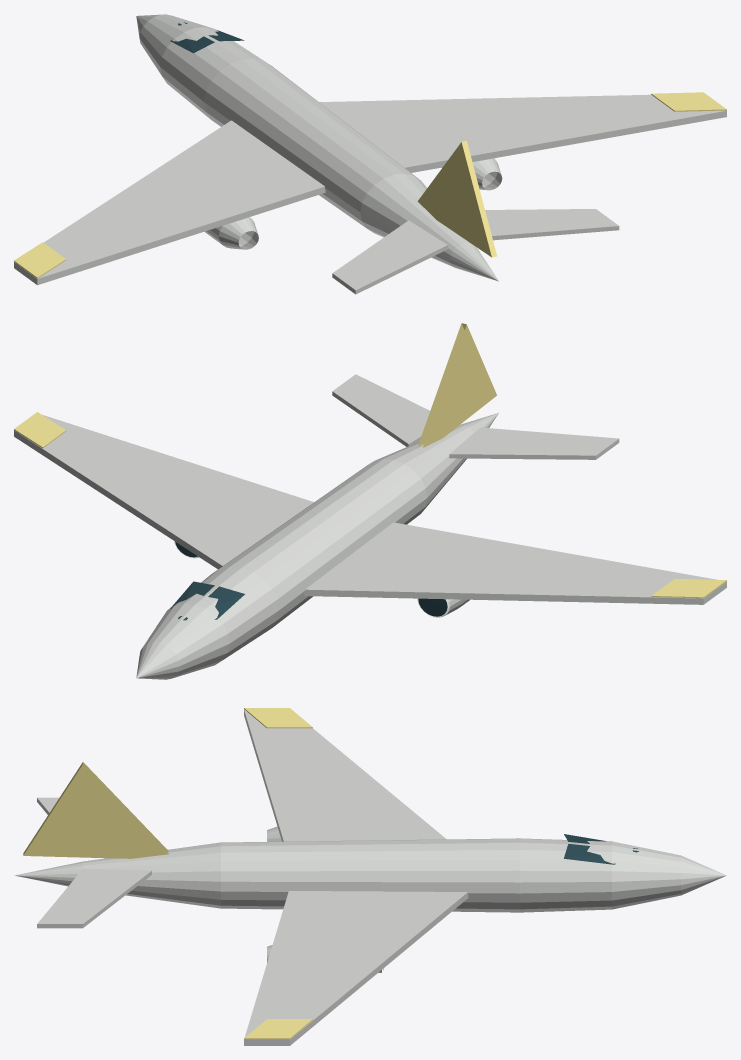
File: aircraft.glb
The picture shows the model from 3 angles, top to bottom: view 1: azimuth 30°, elevation 25°; view 2: azimuth 150°, elevation 25°; view 3: azimuth 270°, elevation 25°; orthographic projection.
Size of the model in its own units: 34 by 7.27 by 31.
